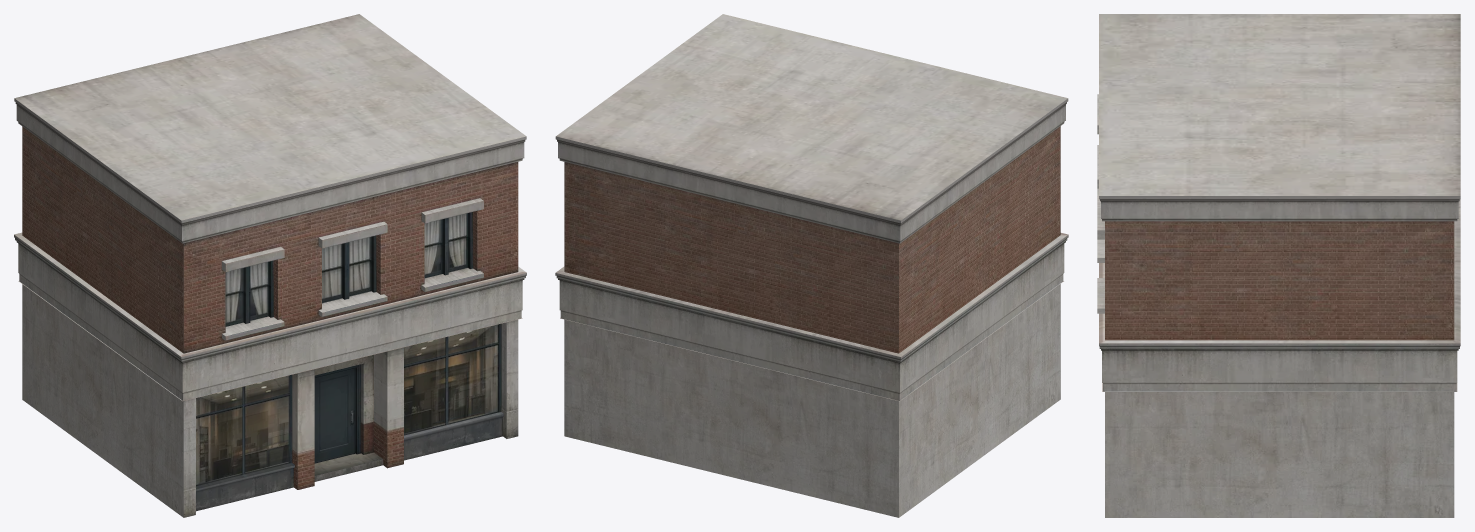
The model's file is loja.glb.
The picture shows the model from 3 angles, left to right: view 1: azimuth 30°, elevation 25°; view 2: azimuth 150°, elevation 25°; view 3: azimuth 270°, elevation 25°; orthographic projection. The views are drawn at different scales.
Visible parts, largest first — view 1: storefront 1_storefront 1_0, storefront 1_storefront 1 (side)_0; view 2: storefront 1_storefront 1 (side)_0, storefront 1_storefront 1_0; view 3: storefront 1_storefront 1 (side)_0, storefront 1_storefront 1_0.
Boxes of the visible parts, x1,y1,x2,y2 form: storefront 1_storefront 1_0: [14, 98, 526, 517]; storefront 1_storefront 1 (side)_0: [14, 14, 526, 517]; storefront 1_storefront 1 (side)_0: [555, 14, 1067, 517]; storefront 1_storefront 1_0: [555, 98, 1068, 400]; storefront 1_storefront 1 (side)_0: [1099, 14, 1460, 517]; storefront 1_storefront 1_0: [1097, 94, 1460, 391].
Size of the model in its own units: 0.9367 by 0.7787 by 0.7899.
Materials: 2 (2 with a texture image).
